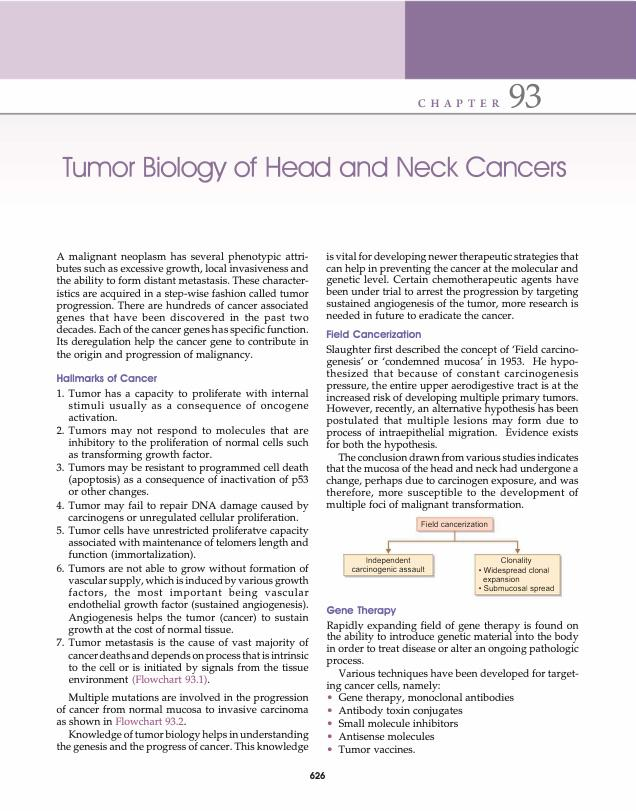chapter-heading: (60, 155, 568, 185)
image: (340, 514, 564, 600)
list: (55, 387, 309, 686), (326, 692, 515, 754)
section-heading: (55, 372, 158, 383), (325, 604, 397, 618), (325, 329, 422, 339)
text: (324, 343, 579, 512), (54, 249, 309, 363), (325, 619, 580, 692), (325, 250, 580, 321), (55, 691, 309, 754)
